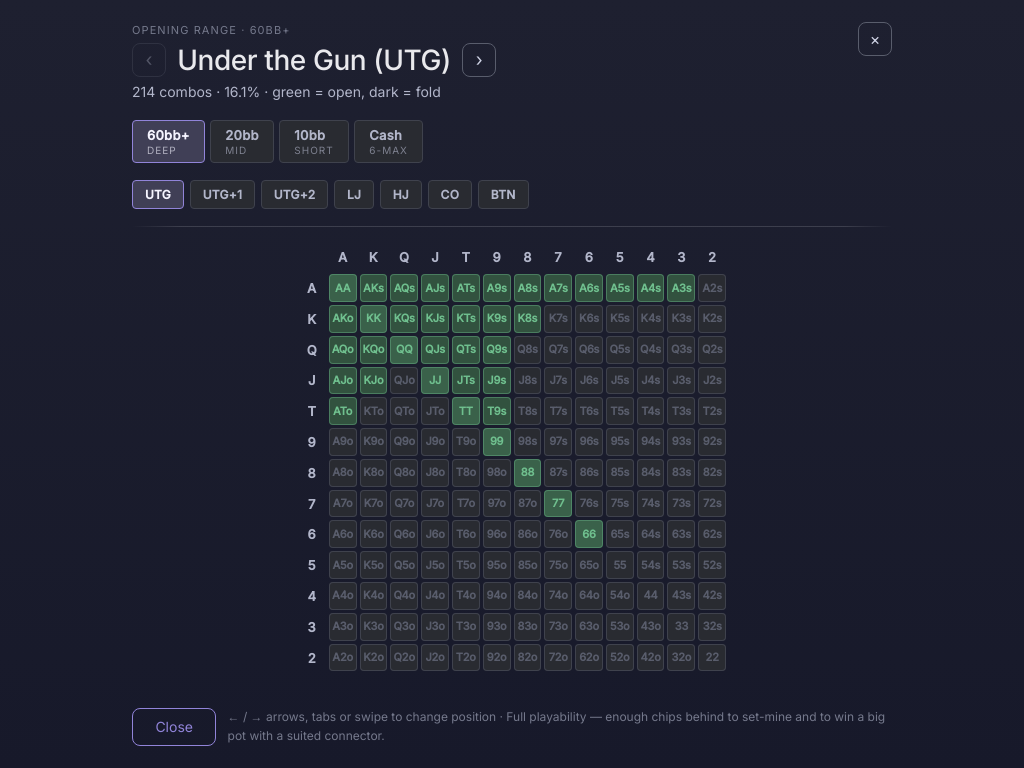
Test: RangeSheet navigation › clamps at both ends and disables the dead arrow
Check: the button named "Previous position" is disabled, box 132,43 -> 166,77
Click the tab "BTN". click: {"x": 503, "y": 194}
box: 478,180 -> 528,209
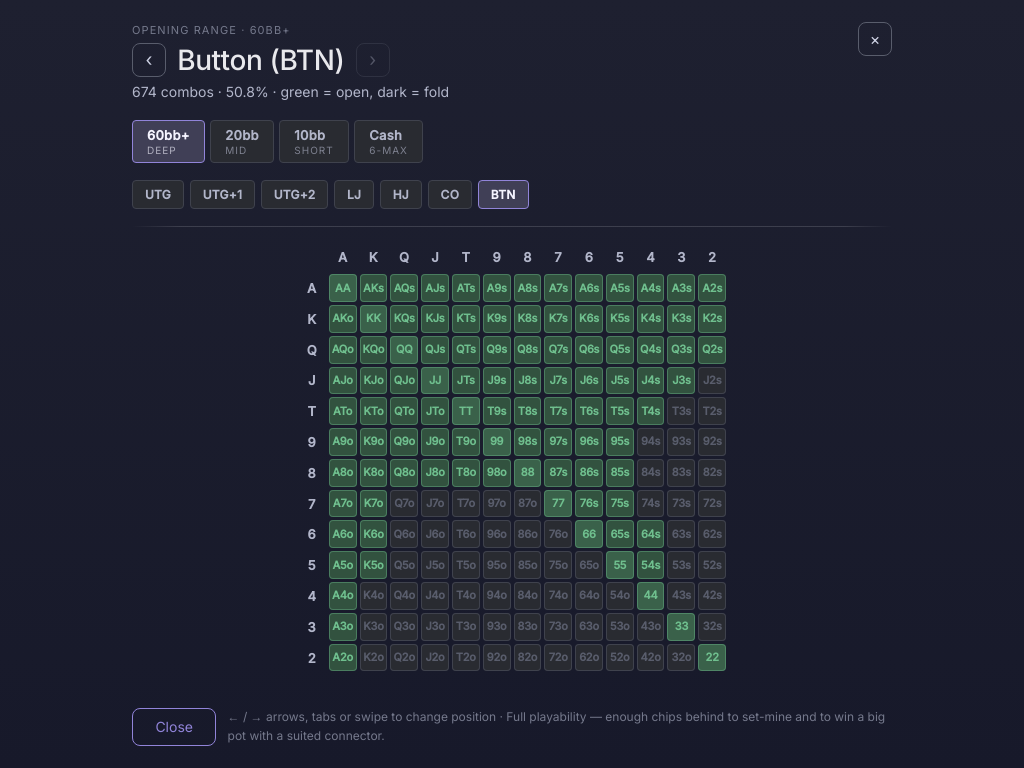
Check: the heading shows "Button", box 177,43 -> 344,77
Check: the button named "Next position" is disabled, box 356,43 -> 390,77
